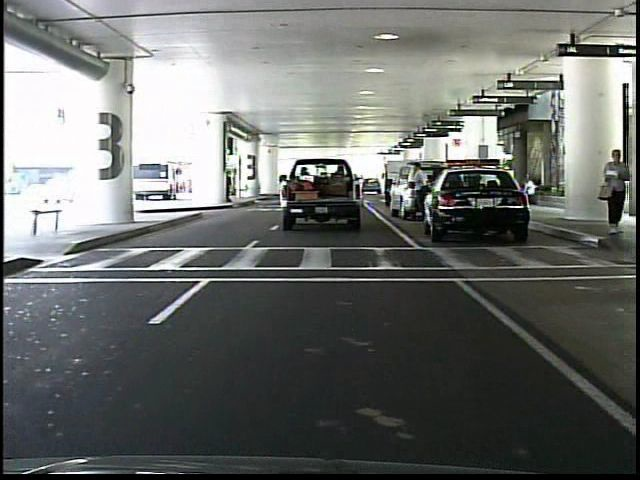person: (598, 146, 631, 239), (412, 159, 429, 225)
